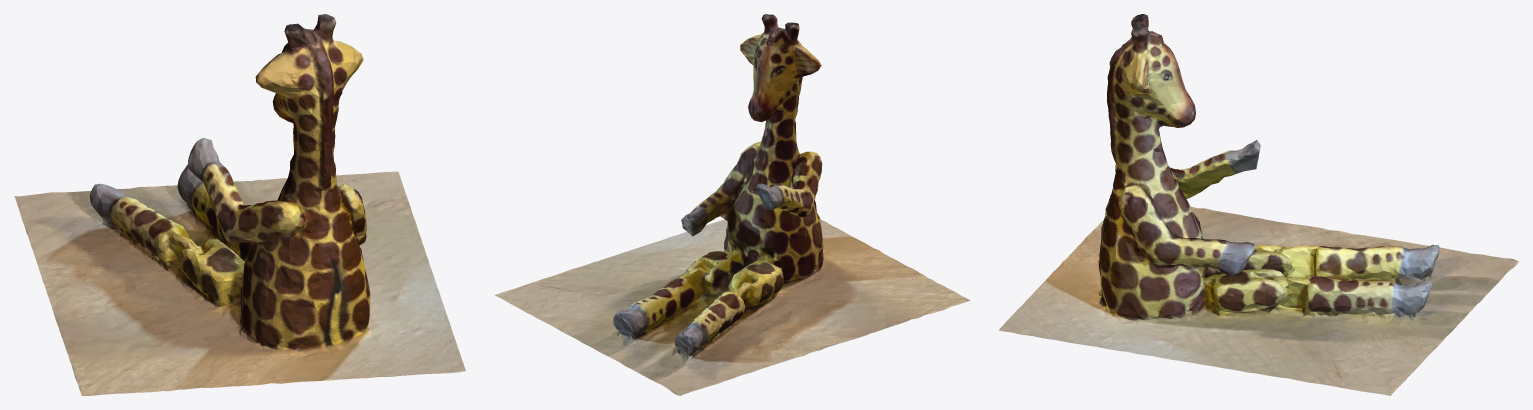
Rendered from yellow-puppet.glb.
3 views of the same model, side by side, from view 1: azimuth 30°, elevation 25°; view 2: azimuth 150°, elevation 25°; view 3: azimuth 270°, elevation 25° (orthographic). The views are drawn at different scales.
Bounding box in the file's own units: 0.1651 × 0.1063 × 0.1796.
1 material, 1 textured.
